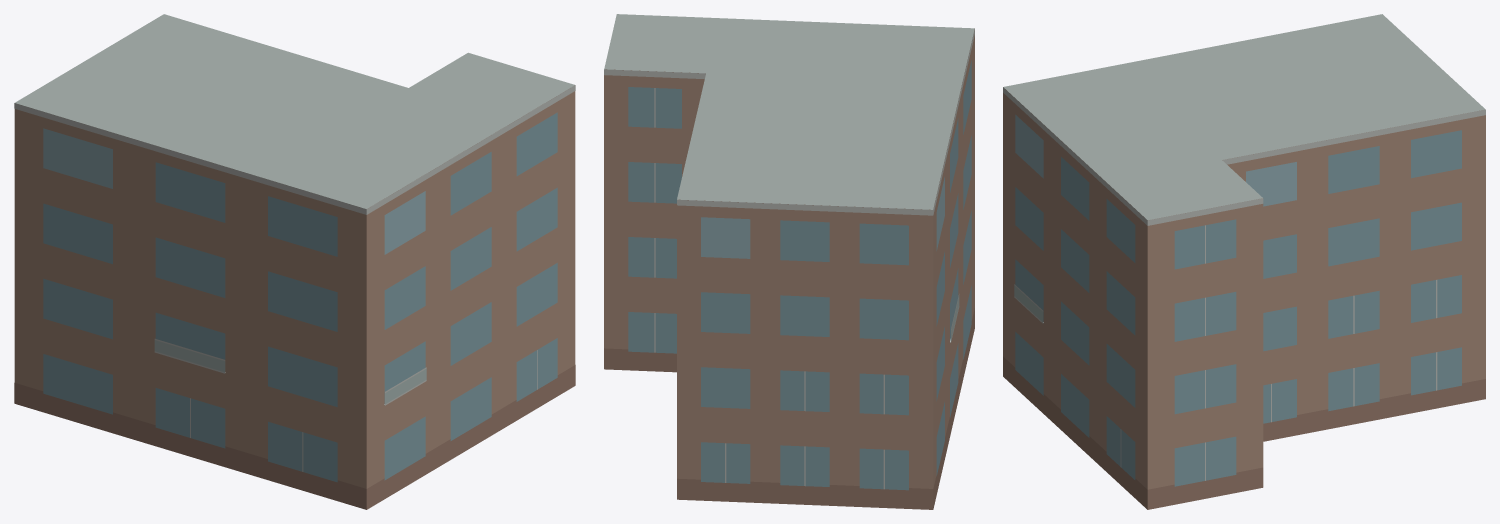
File: survey-upis-32629336.glb
3 renders of one model, left to right at view 1: azimuth 30°, elevation 25°; view 2: azimuth 150°, elevation 25°; view 3: azimuth 270°, elevation 25°, orthographic. The views are drawn at different scales.
Visible parts, largest first — view 1: survey-upis-32629336.tmp; view 2: survey-upis-32629336.tmp; view 3: survey-upis-32629336.tmp.
Part boxes in pixels (x1=…): survey-upis-32629336.tmp: x1=14, y1=14, x2=575, y2=509; survey-upis-32629336.tmp: x1=604, y1=14, x2=974, y2=509; survey-upis-32629336.tmp: x1=1003, y1=14, x2=1485, y2=509.
Bounding box in the file's own units: 19.26 × 12.6 × 19.05.
